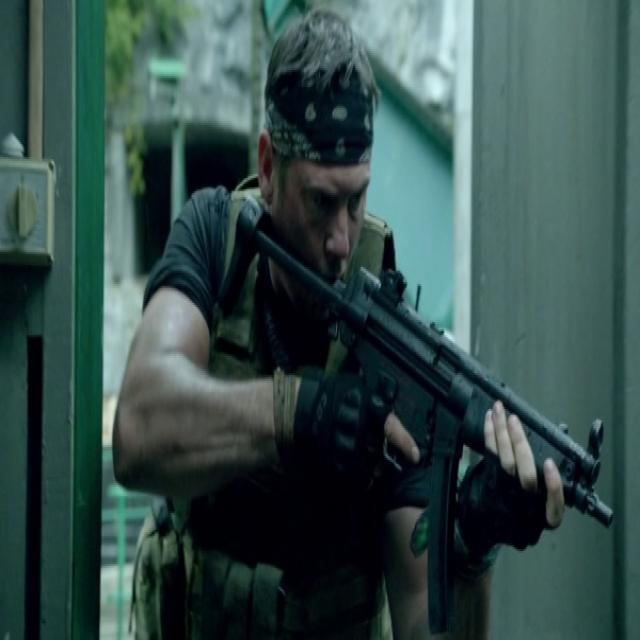rifle: (232, 192, 620, 640)
